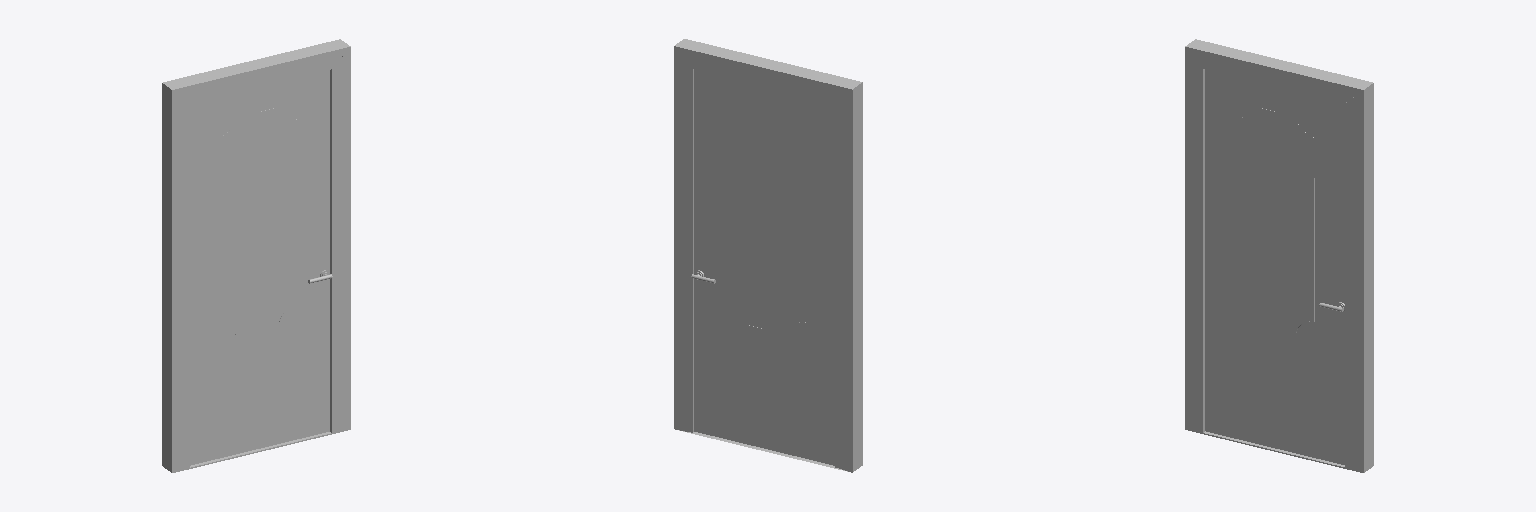
File: Inside door.obj
3 views of the same model, side by side, from view 1: azimuth 30°, elevation 25°; view 2: azimuth 150°, elevation 25°; view 3: azimuth 330°, elevation 25° (orthographic).
Parts seen in each view (by area): view 1: Inside_door_Cube.001, Door_frame_Cube.002; view 2: Inside_door_Cube.001, Door_frame_Cube.002; view 3: Inside_door_Cube.001, Door_frame_Cube.002.
Part boxes in pixels (x1,y1,x2,y2): Inside_door_Cube.001: (190, 70, 329, 465); Door_frame_Cube.002: (162, 39, 350, 472); Inside_door_Cube.001: (694, 69, 834, 465); Door_frame_Cube.002: (674, 39, 862, 472); Inside_door_Cube.001: (1205, 70, 1344, 464); Door_frame_Cube.002: (1185, 39, 1373, 472).
Size of the model in its own units: 3.33 by 6.83 by 0.4798.